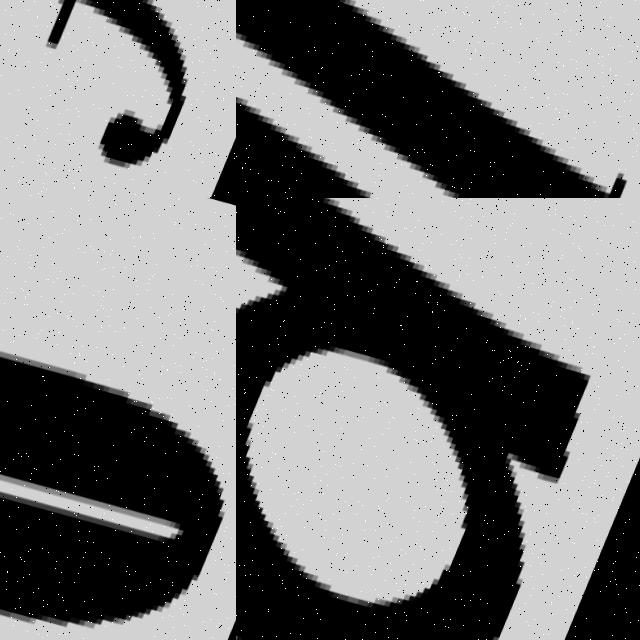E: (0, 362, 229, 631)
F: (0, 0, 236, 198)
P: (236, 198, 594, 640)
U: (236, 0, 640, 198)
